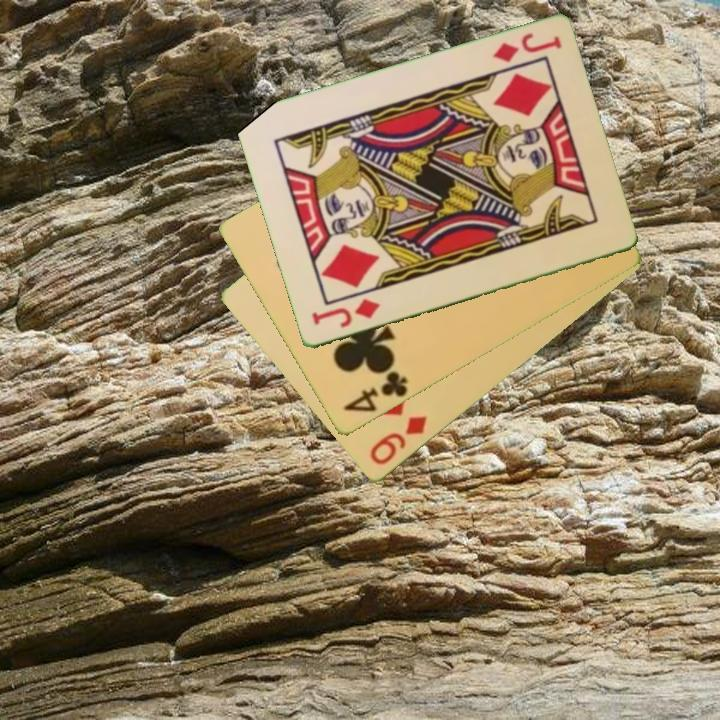4c: (339, 368, 411, 416)
9d: (366, 413, 430, 469)
Jd: (488, 29, 564, 67), (307, 295, 382, 332)
